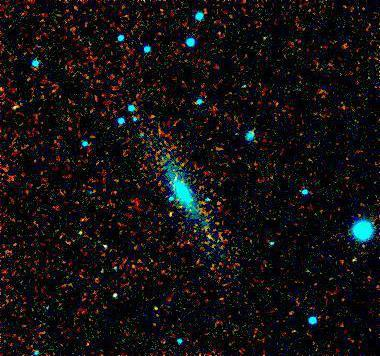star: (159, 204, 189, 234)
